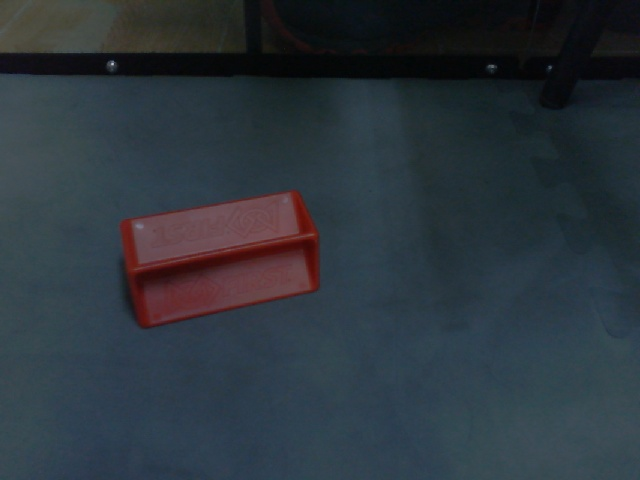RedSample: (115, 186, 326, 331)
